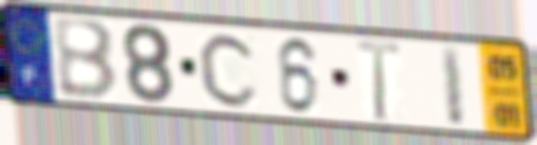6: (274, 34, 322, 116)
8: (120, 21, 176, 107)
B: (49, 17, 120, 103)
C: (196, 29, 261, 110)
I: (437, 43, 468, 129)
T: (353, 36, 404, 124)
